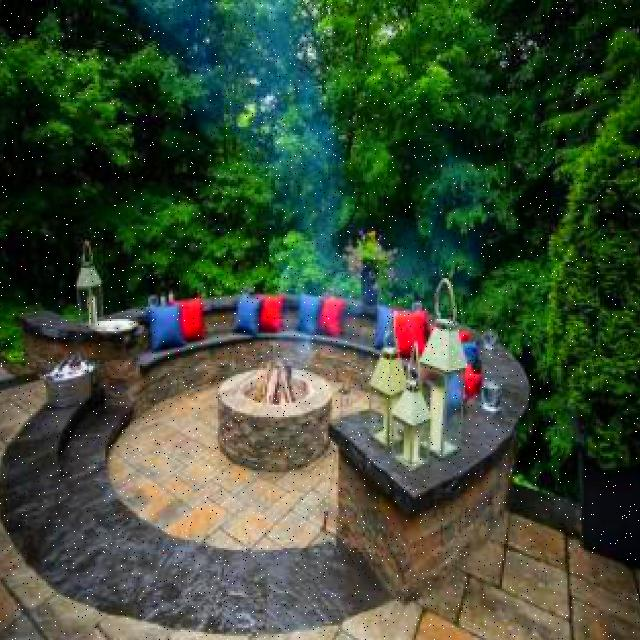smoke: (291, 268, 324, 392)
